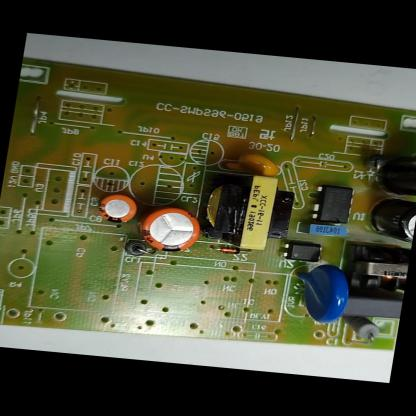Cap1: (132, 204, 204, 254)
Cap2: (93, 191, 140, 226)
Cap3: (366, 196, 416, 247)
Cap4: (371, 149, 416, 197)
MOSFET: (310, 183, 356, 226)
Mov: (286, 260, 352, 327)
Resistor: (341, 315, 382, 342)
Transformer: (193, 168, 300, 254), (340, 244, 410, 294)
